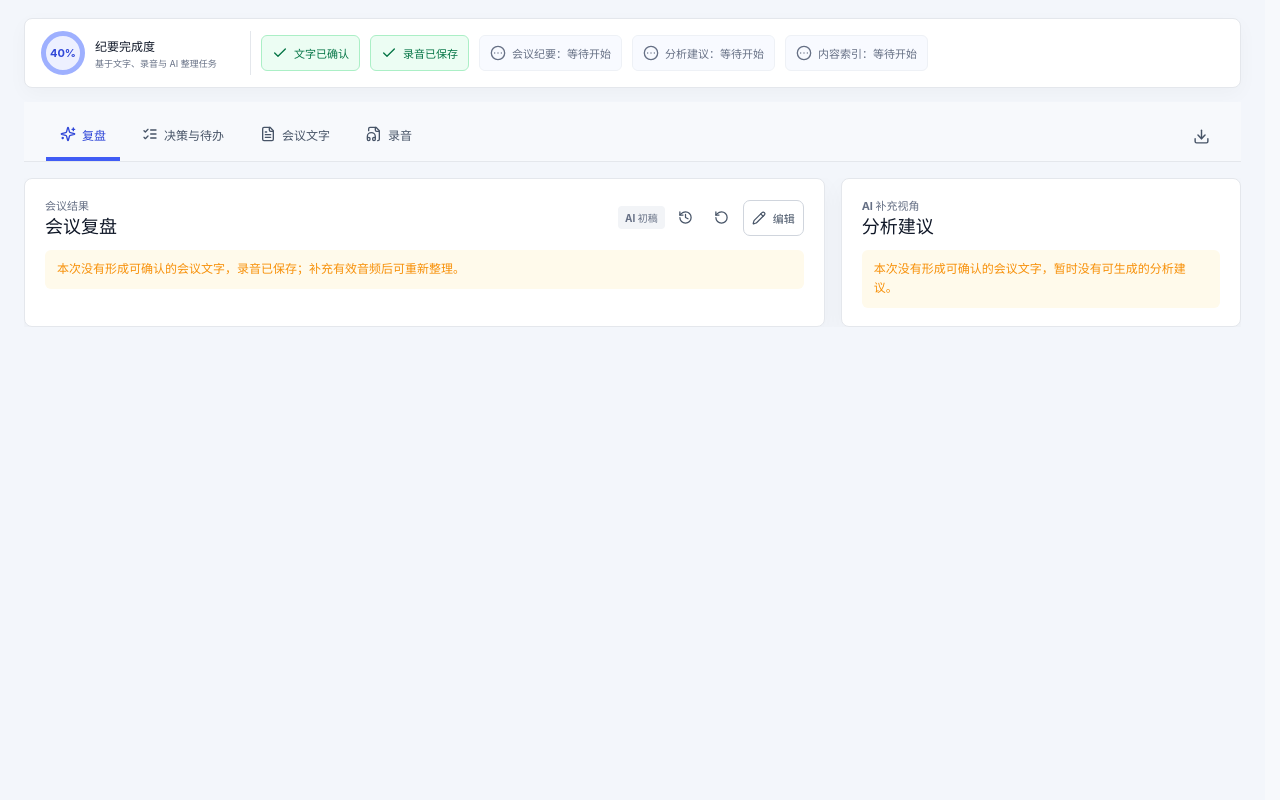
Scenario: ReviewWorkspace › defaults multi-epoch recordings to the complete continued meeting
Click the tab "录音" at [389, 135], box [352,109,426,161]
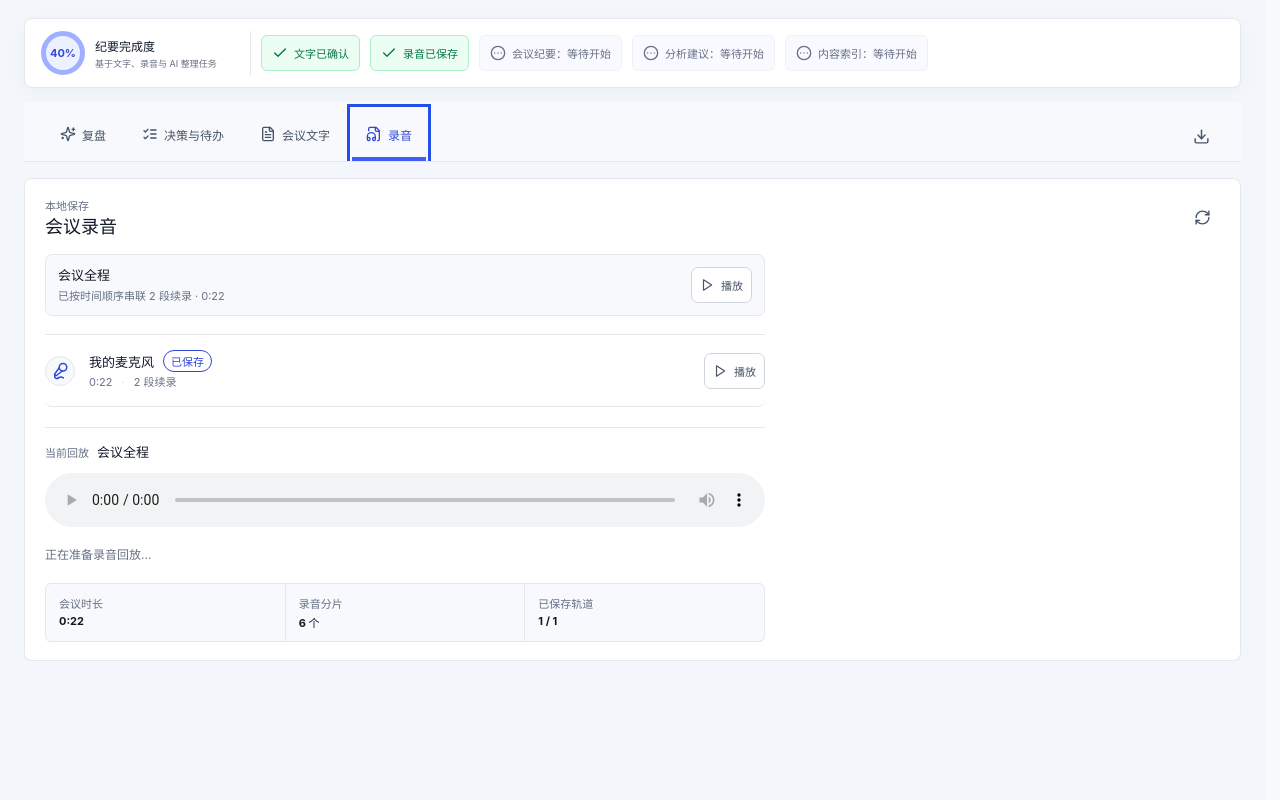
Check: the text "已按时间顺序串联 2 段续录 · 0:22" is shown, box [58,289,225,305]
Check: the text "2 段续录" is shown, box [122,375,176,391]
Check: the text "1 / 1" is shown, box [538,614,557,628]
